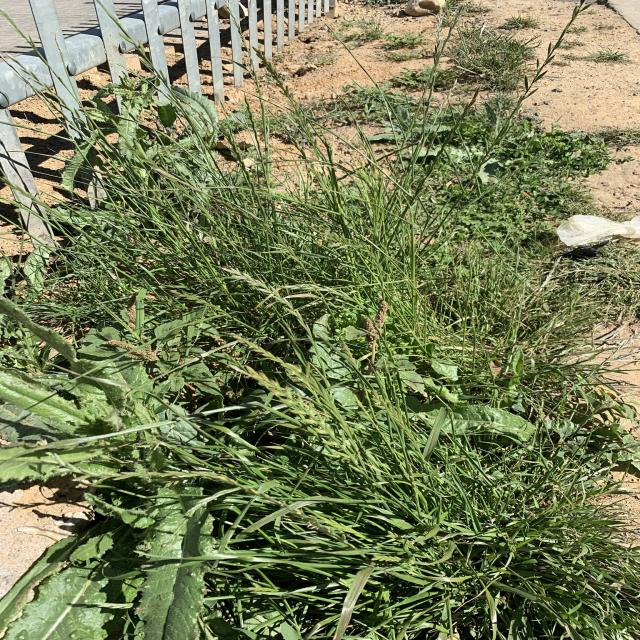Lolium: (21, 22, 167, 242), (57, 464, 386, 556), (216, 281, 362, 480), (465, 0, 602, 202), (254, 41, 363, 208)
